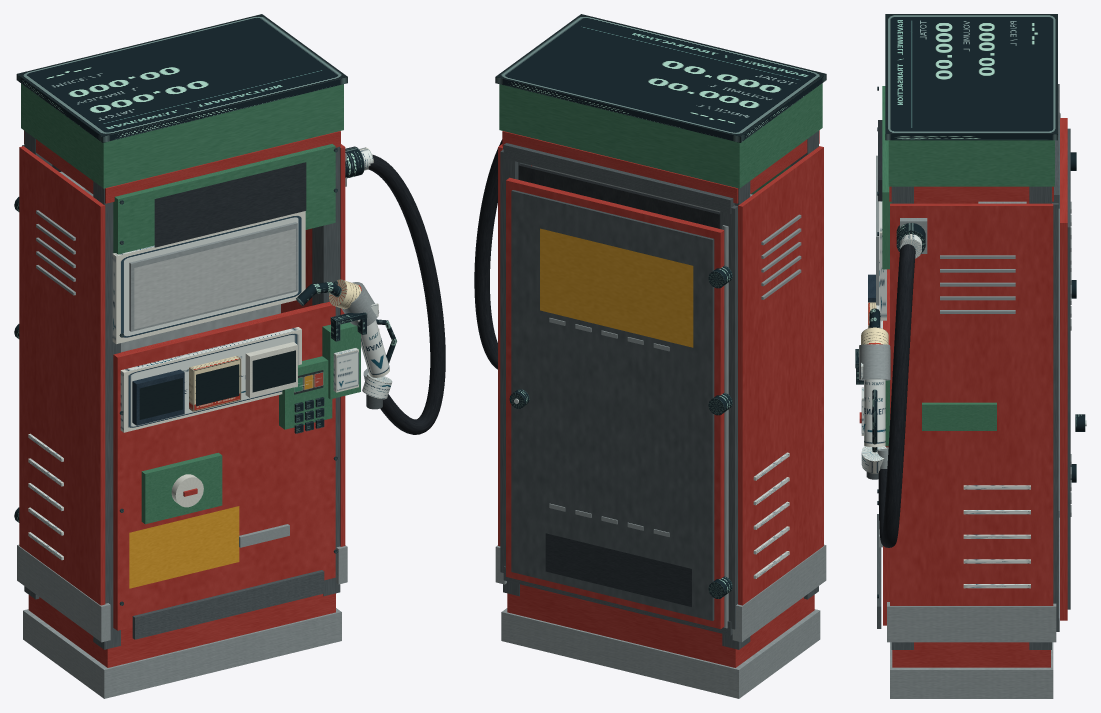
Rendered from PROJECT_Z_Fuel_Pump_Dispenser.glb.
3 renders of one model, left to right at view 1: azimuth 30°, elevation 25°; view 2: azimuth 150°, elevation 25°; view 3: azimuth 270°, elevation 25°, orthographic.
Visible parts, largest first — view 1: Housing_Side_Shells_Left_Right, Front_Lower_Cabinet_Skin, Housing_Top_Weather_Cap_Lip, Housing_Top_Crown_Cap, Housing_FloorMount_BaseSkirt_0p92m, Front_LCD_Real_Display_Panel, Housing_4x_Metal_Frame_Stiles, Front_RAVENWELL_Fictional_Branding, Housing_Lower_Pedestal, Front_Display_Header_Bezel, Front_Flammability_Warning_Decal, Front_LCD_Bezel_Outer (+23 smaller); view 2: ServicePanel_Door_Internal_Stiffener_Back, Housing_Side_Shells_Left_Right, Housing_Top_Weather_Cap_Lip, Housing_Top_Crown_Cap, ServicePanel_Warning_Sticker, Service_Rear_Openable_Enclosure_Frame, Housing_FloorMount_BaseSkirt_0p92m, ServicePanel_Door_Painted_OuterSkin, Housing_Lower_Pedestal, ServicePanel_RAVENWELL_Service_Badge, Housing_Lower_Kick_Corner_Armor, Housing_Head_Upper_Rail (+8 smaller); view 3: Housing_Side_Shells_Left_Right, Housing_Top_Weather_Cap_Lip, Housing_Top_Crown_Cap, Housing_Lower_Kick_Corner_Armor, Housing_FloorMount_BaseSkirt_0p92m, Delivery_OnePiece_Curved_Rubber_Hose_STATIC_Repose, ServicePanel_Door_Painted_OuterSkin, Housing_Lower_Pedestal, Service_Rear_Openable_Enclosure_Frame, RightSide_ModelPlate, Housing_Head_Upper_Rail, ServicePanel_Door_Internal_Stiffener_Back (+16 smaller).
Boxes of the visible parts, x1,y1,x2,y2 form: Housing_Side_Shells_Left_Right: (19,144,345,605); Front_Lower_Cabinet_Skin: (113,301,335,630); Housing_Top_Weather_Cap_Lip: (16,14,347,142); Housing_Top_Crown_Cap: (21,83,343,188); Housing_FloorMount_BaseSkirt_0p92m: (23,608,341,698); Front_LCD_Real_Display_Panel: (134,228,295,329); Housing_4x_Metal_Frame_Stiles: (24,131,340,649); Front_RAVENWELL_Fictional_Branding: (154,162,306,247); Housing_Lower_Pedestal: (28,593,335,667); Front_Display_Header_Bezel: (113,144,335,254); Front_Flammability_Warning_Decal: (129,506,239,588); Front_LCD_Bezel_Outer: (112,211,305,344); ServicePanel_Door_Internal_Stiffener_Back: (511,190,714,620); Housing_Side_Shells_Left_Right: (498,144,823,605); Housing_Top_Weather_Cap_Lip: (495,14,826,142); Housing_Top_Crown_Cap: (499,83,822,188); ServicePanel_Warning_Sticker: (540,228,693,347); Service_Rear_Openable_Enclosure_Frame: (500,143,737,635); Housing_FloorMount_BaseSkirt_0p92m: (501,608,820,698); ServicePanel_Door_Painted_OuterSkin: (506,177,724,629); Housing_Lower_Pedestal: (507,584,814,667); ServicePanel_RAVENWELL_Service_Badge: (545,533,691,606); Housing_Lower_Kick_Corner_Armor: (495,544,826,642); Housing_Head_Upper_Rail: (502,130,819,203); Housing_Side_Shells_Left_Right: (890,201,1053,605); Housing_Top_Weather_Cap_Lip: (885,14,1057,140); Housing_Top_Crown_Cap: (888,140,1054,186); Housing_Lower_Kick_Corner_Armor: (887,602,1056,642); Housing_FloorMount_BaseSkirt_0p92m: (890,642,1053,698); Delivery_OnePiece_Curved_Rubber_Hose_STATIC_Repose: (878,244,915,547); ServicePanel_Door_Painted_OuterSkin: (1060,118,1067,620); Housing_Lower_Pedestal: (892,642,1050,667); Service_Rear_Openable_Enclosure_Frame: (1052,84,1059,631); RightSide_ModelPlate: (922,402,996,430); Housing_Head_Upper_Rail: (889,186,1053,201); ServicePanel_Door_Internal_Stiffener_Back: (1067,128,1070,609).
Size of the model in its own units: 1.33 by 2.07 by 0.7645.
Materials: 1 (1 with a texture image).
